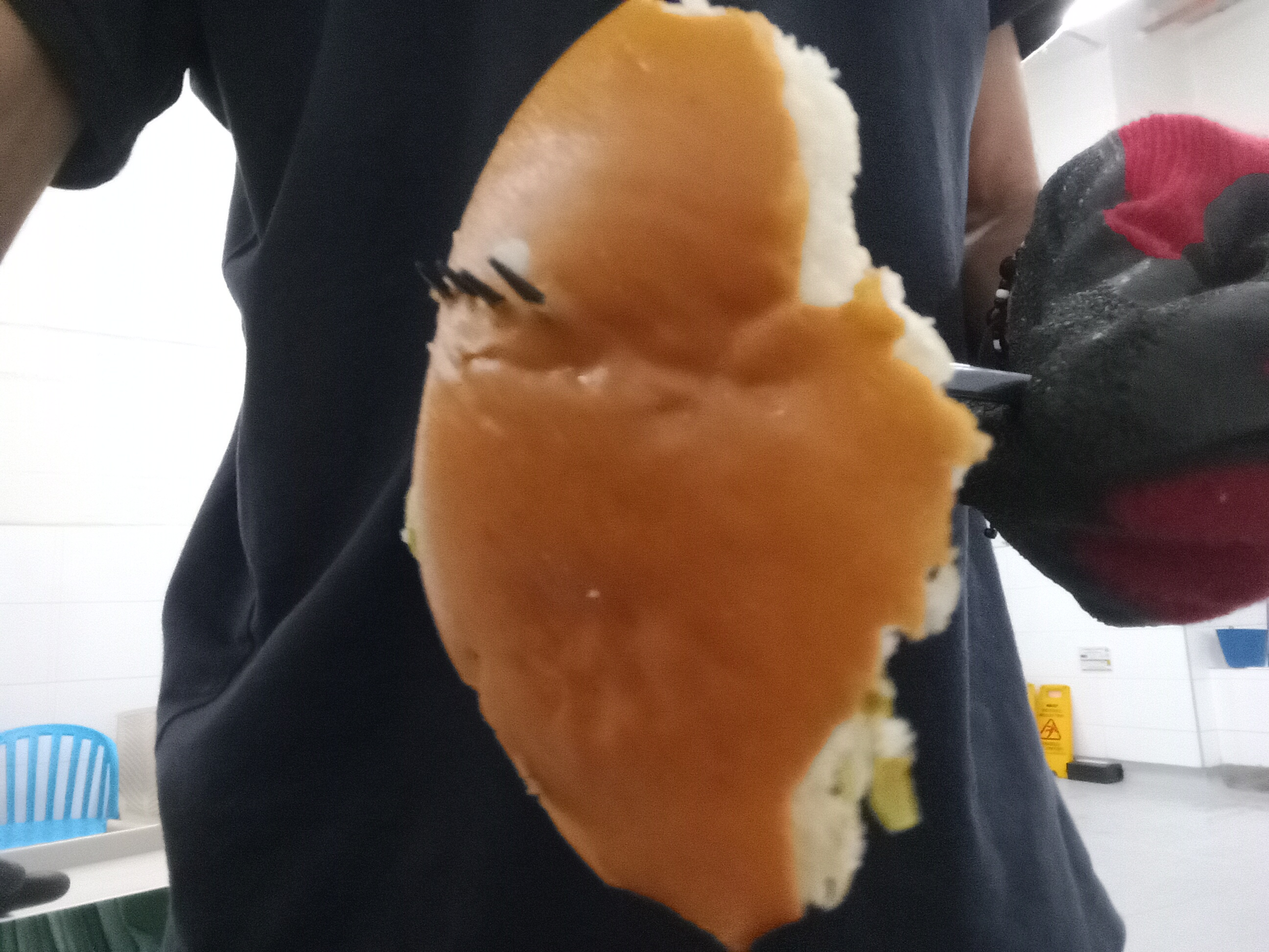Organico: (402, 0, 994, 952)
